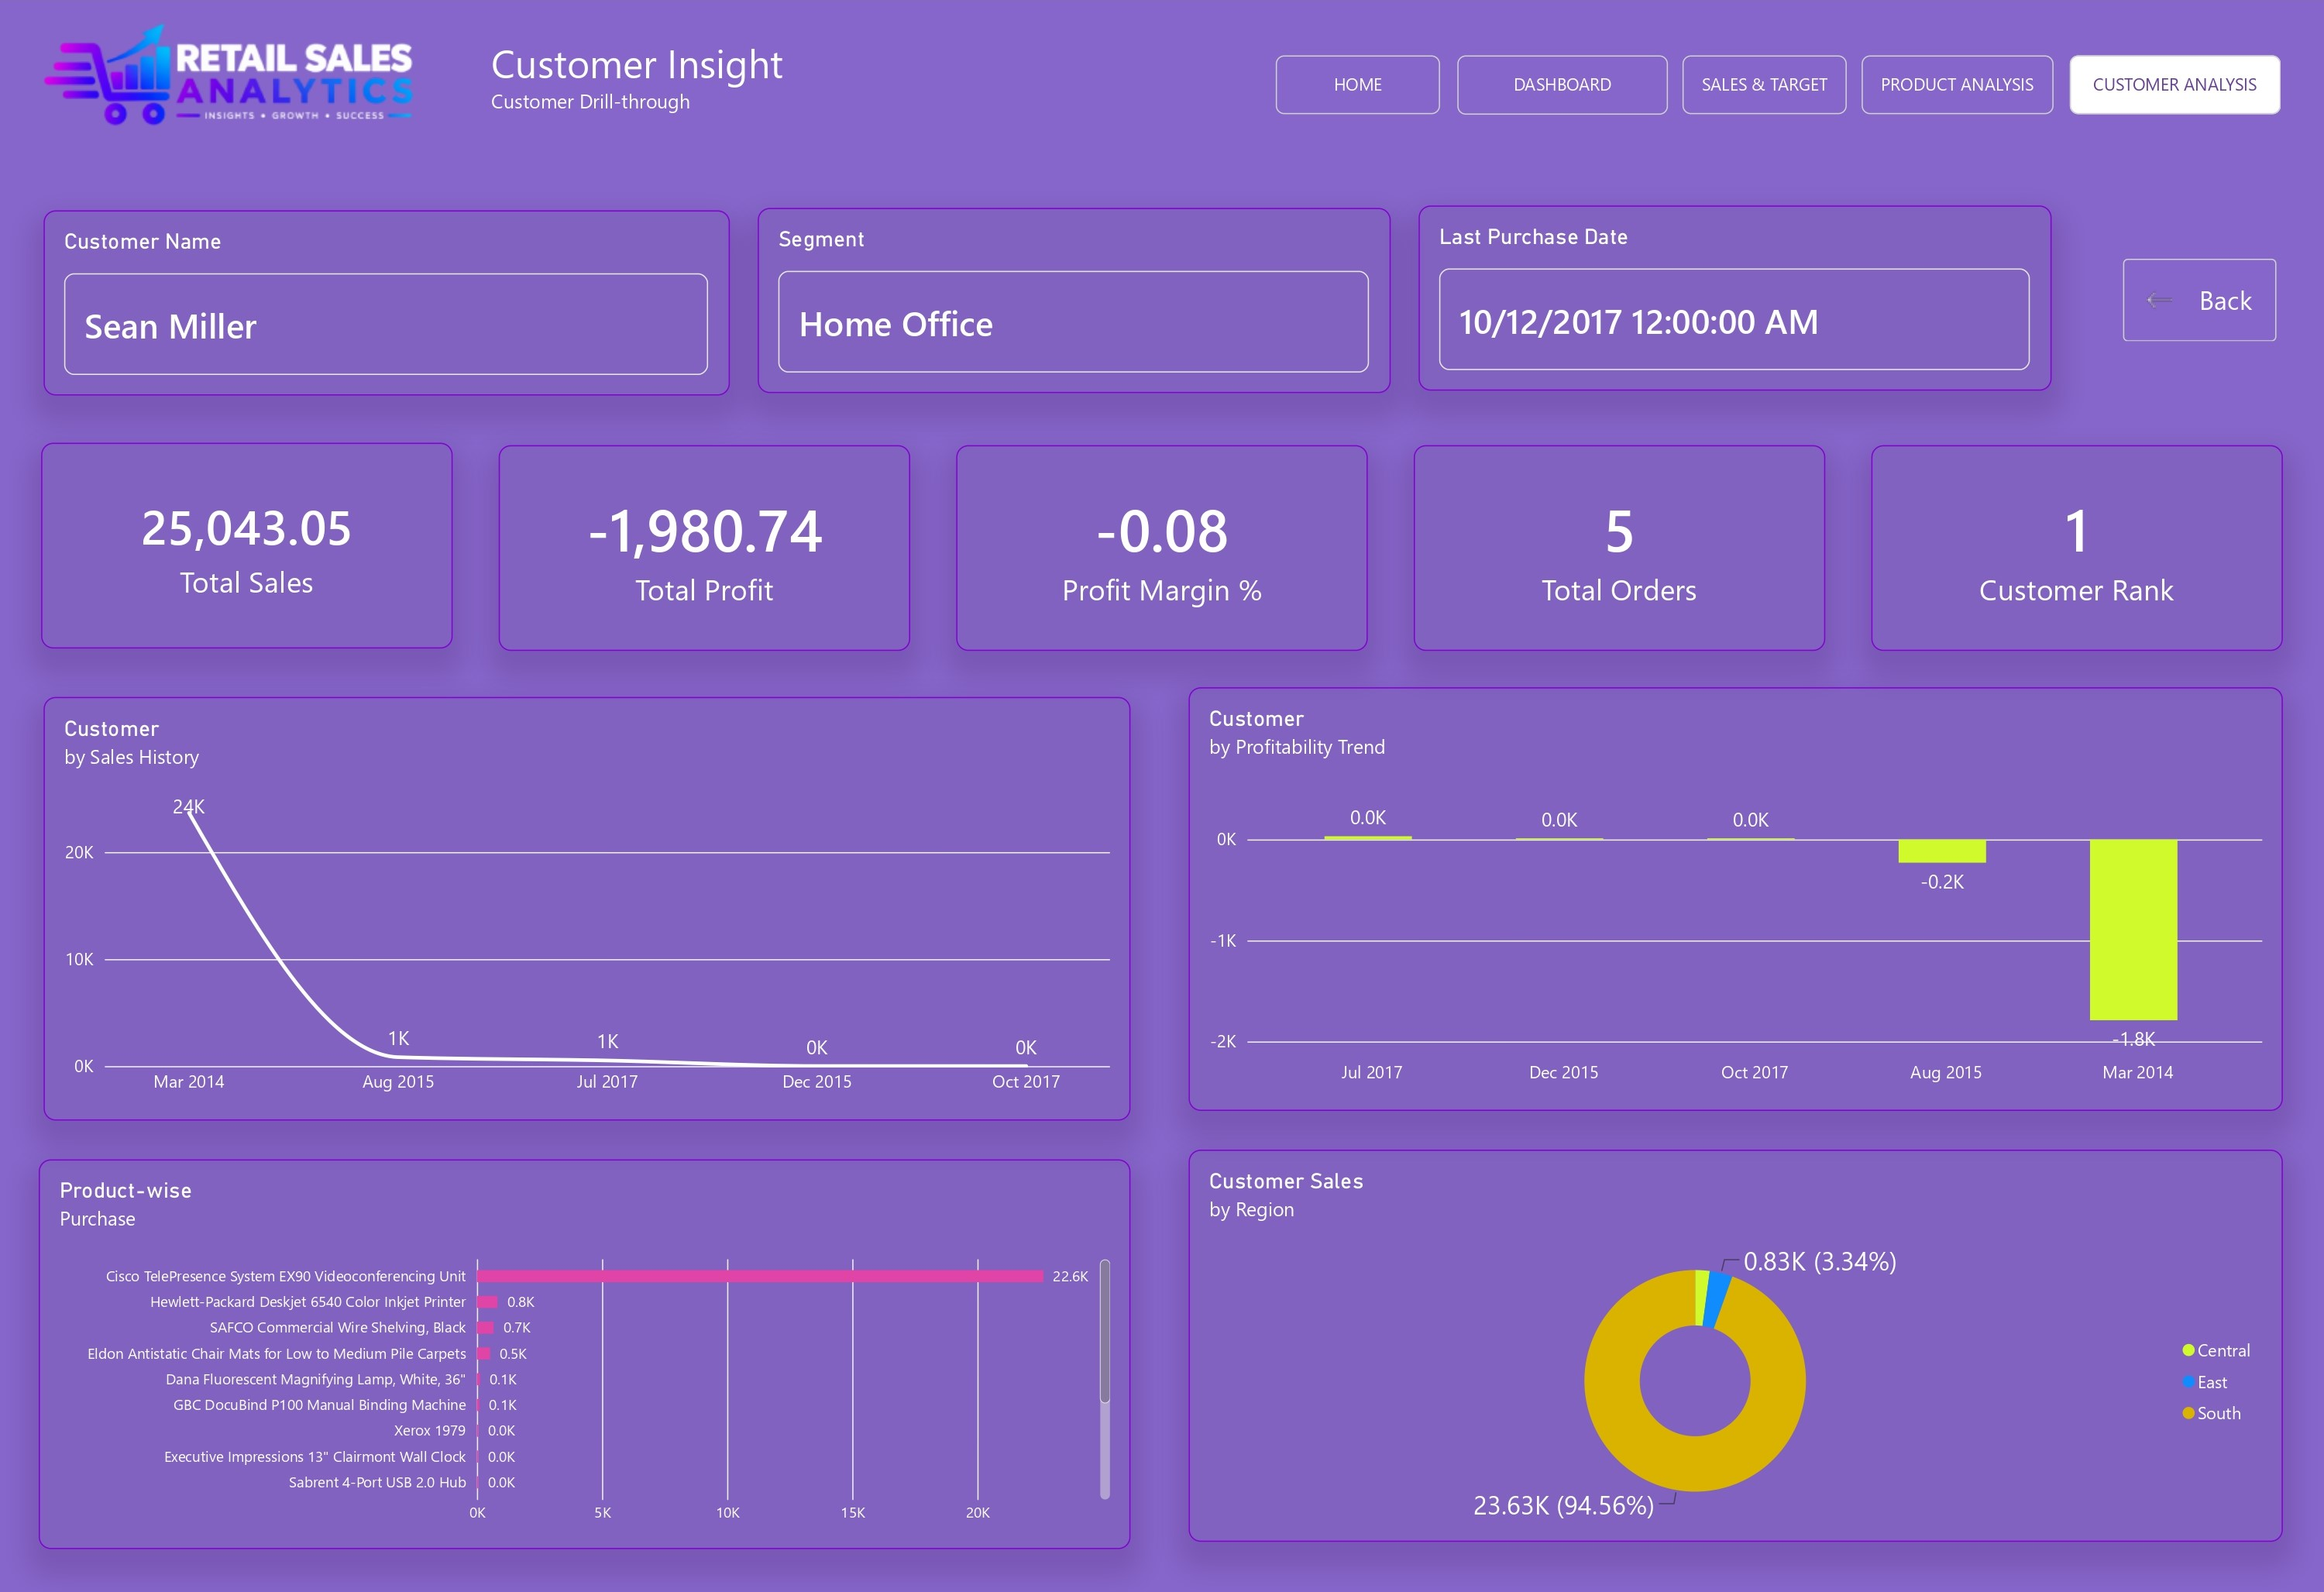

The dashboard page shown, as its layout file describes it:
{"tool":"powerbi","page":{"name":"Customer Insights","canvas":[1920,1500],"ordinal":6},"visuals":[{"type":"textbox","box":[405.7,30,254.3,75.7],"z":0},{"type":"card","fields":{"Values":["FactSales.Total Sales"]},"box":[34,366,340,170],"z":1000},{"type":"card","fields":{"Values":["FactSales.Total Profit"]},"box":[412.2,367.3,340,170],"z":2000},{"type":"card","fields":{"Values":["FactSales.Profit Margin %"]},"box":[790.3,367.3,340,170],"z":3000},{"type":"card","fields":{"Values":["FactSales.Total Orders"]},"box":[1168.5,367.3,340,170],"z":4000},{"type":"card","fields":{"Values":["FactSales.Customer Rank"]},"box":[1546.7,367.3,340,170],"z":5000},{"type":"lineChart","title":"Customer ","fields":{"Category":["DimDate.Month Year"],"Y":["FactSales.Total Sales"]},"box":[36,575.2,898,350],"z":6000},{"type":"clusteredColumnChart","title":"Customer ","fields":{"Category":["DimDate.Month Year"],"Y":["FactSales.Total Profit"]},"box":[982,567.2,904,350],"z":7000},{"type":"barChart","title":"Product-wise ","fields":{"Category":["FactSales.Product Name"],"Y":["FactSales.Total Sales"]},"box":[32,957.2,902,322],"z":8000},{"type":"donutChart","title":"Customer Sales ","fields":{"Category":["FactSales.Region"],"Y":["FactSales.Total Sales"]},"box":[982,949.2,904,324],"z":9000},{"type":"actionButton","box":[1753.3,213.3,126.7,68.3],"z":10000},{"type":"cardVisual","title":"Customer Name","fields":{"Data":["Min(FactSales.Customer Name)"]},"box":[35,173.3,566.7,153.3],"z":11000},{"type":"cardVisual","title":"Segment","fields":{"Data":["Min(FactSales.Segment)"]},"box":[625.8,172.5,522.5,152.5],"z":13000},{"type":"cardVisual","title":"Last Purchase Date","fields":{"Data":["FactSales.Last Purchase Date"]},"box":[1172.5,170,522.5,152.5],"z":14000},{"type":"actionButton","box":[1054.6,45.7,135.7,48.6],"z":15000},{"type":"actionButton","box":[1389.7,45.7,135.7,48.6],"z":16000},{"type":"actionButton","box":[1538,45.7,158.6,48.6],"z":17000},{"type":"actionButton","box":[1709.2,45.7,174.3,48.6],"z":18000},{"type":"actionButton","box":[1203,46,174,49],"z":19000},{"type":"image","box":[32.9,5.7,315.7,110],"z":19001}]}

Visuals, with their boxes on the page's 1920x1500 design canvas (x1, y1, x2, y2). These are canvas units, not pixel positions in the 2324x1592 screenshot, which may show the page scaled, cropped or inside an application window:
textbox: bbox(406, 30, 660, 106)
card - FactSales.Total Sales: bbox(34, 366, 374, 536)
card - FactSales.Total Profit: bbox(412, 367, 752, 537)
card - FactSales.Profit Margin %: bbox(790, 367, 1130, 537)
card - FactSales.Total Orders: bbox(1168, 367, 1508, 537)
card - FactSales.Customer Rank: bbox(1547, 367, 1887, 537)
"Customer " lineChart: bbox(36, 575, 934, 925)
"Customer " clusteredColumnChart: bbox(982, 567, 1886, 917)
"Product-wise " barChart: bbox(32, 957, 934, 1279)
"Customer Sales " donutChart: bbox(982, 949, 1886, 1273)
actionButton: bbox(1753, 213, 1880, 282)
"Customer Name" cardVisual: bbox(35, 173, 602, 327)
"Segment" cardVisual: bbox(626, 172, 1148, 325)
"Last Purchase Date" cardVisual: bbox(1172, 170, 1695, 322)
actionButton: bbox(1055, 46, 1190, 94)
actionButton: bbox(1390, 46, 1525, 94)
actionButton: bbox(1538, 46, 1697, 94)
actionButton: bbox(1709, 46, 1884, 94)
actionButton: bbox(1203, 46, 1377, 95)
image: bbox(33, 6, 349, 116)
